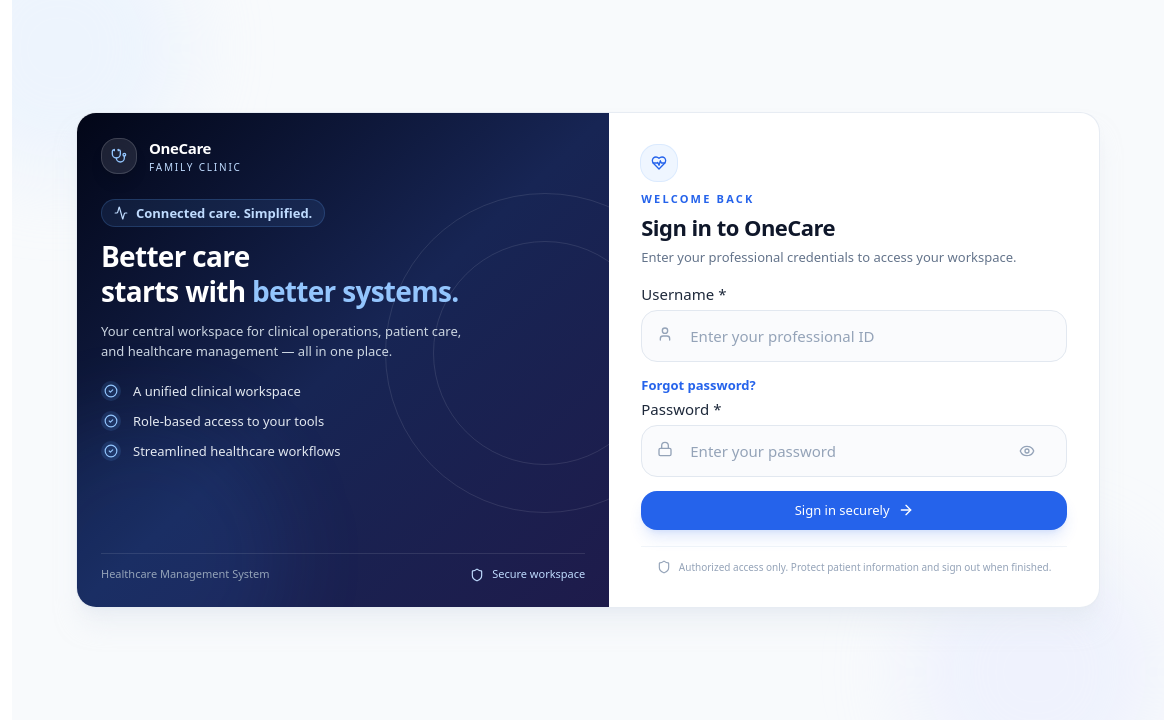
AppRoutes — CFG-03 role-based routing (integration) › rejected credentials keep the visitor on /login with an error
The image size is (1164, 720).
Check: the heading "Sign in to OneCare" is shown, box [641,212,835,242]
Type "doctor@onecare.test" into the field labelled "Username*" at (854, 336), box [641,310,1067,362]
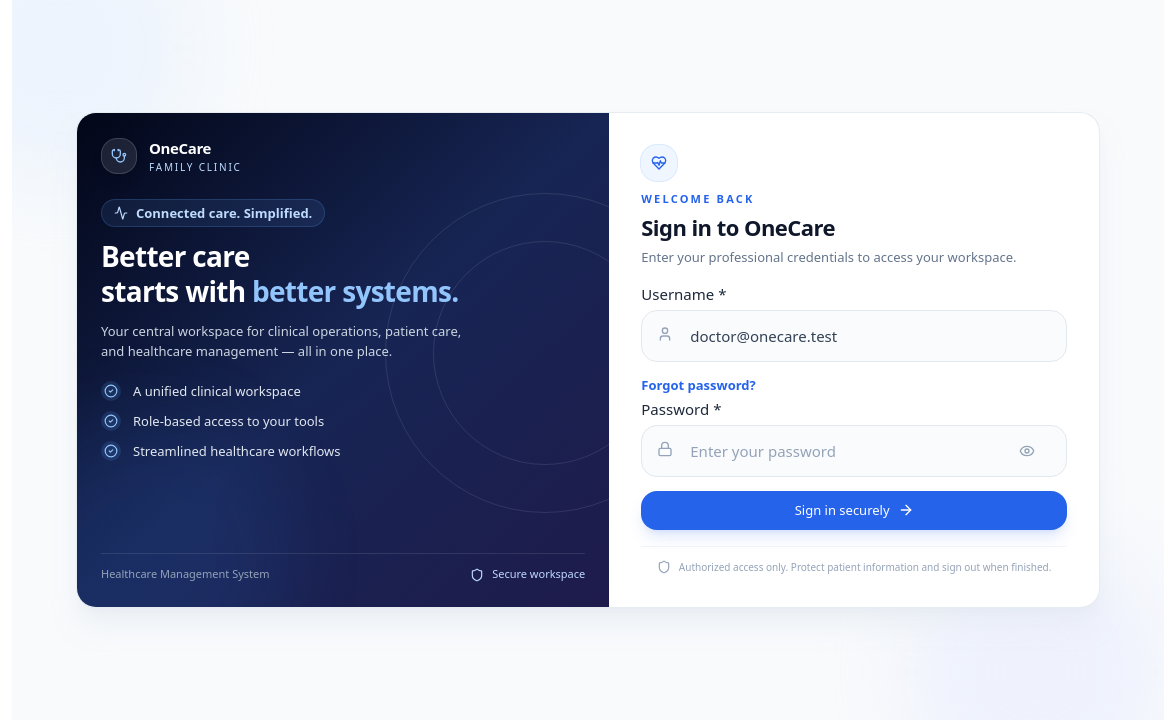
Type "secret" into the password field labelled "Password*" at (854, 451), box [641,425,1067,477]
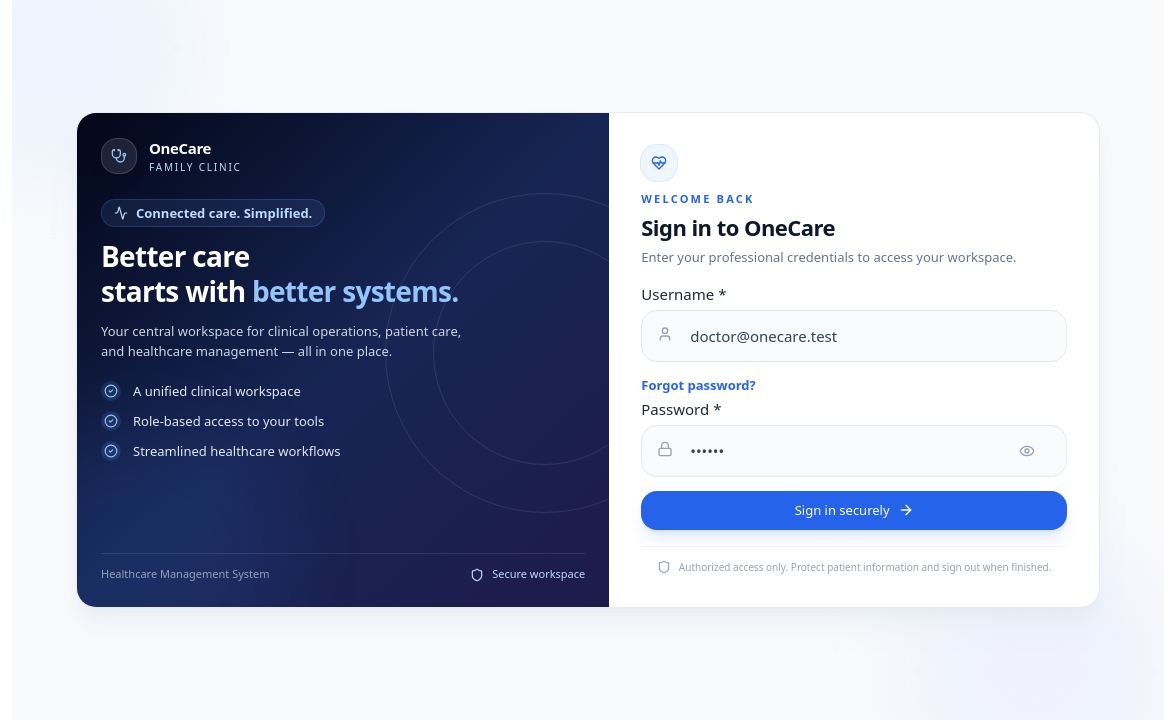
Click the button "Sign in securely" at (854, 510), box [641,491,1067,530]
(page scrolled)
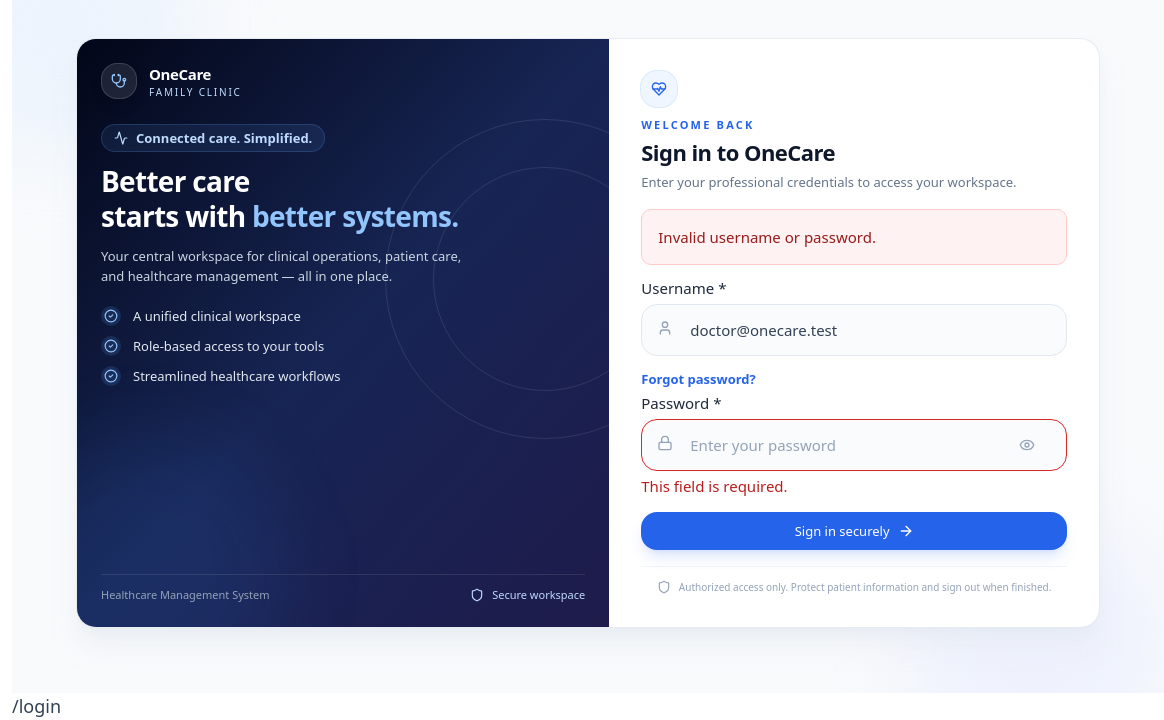
Check: the button "Sign in securely" is enabled, box [641,512,1067,550]
Check: the text "Invalid username or password." is shown, box [658,227,876,247]
